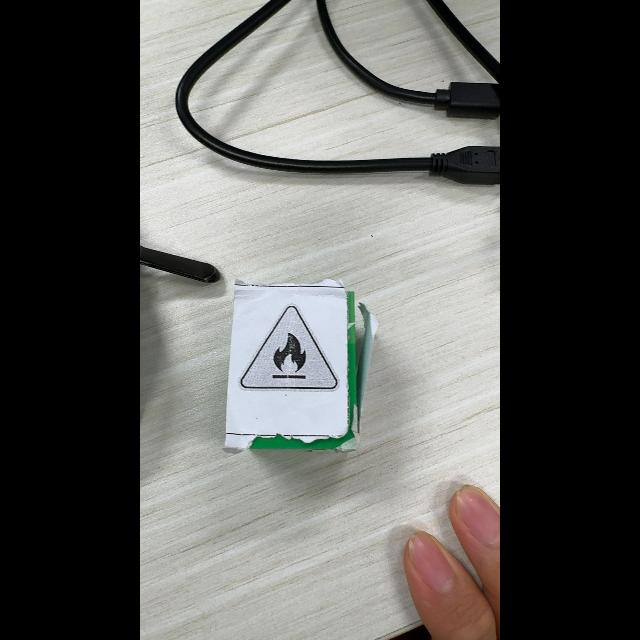Fire: (240, 305, 339, 390)
